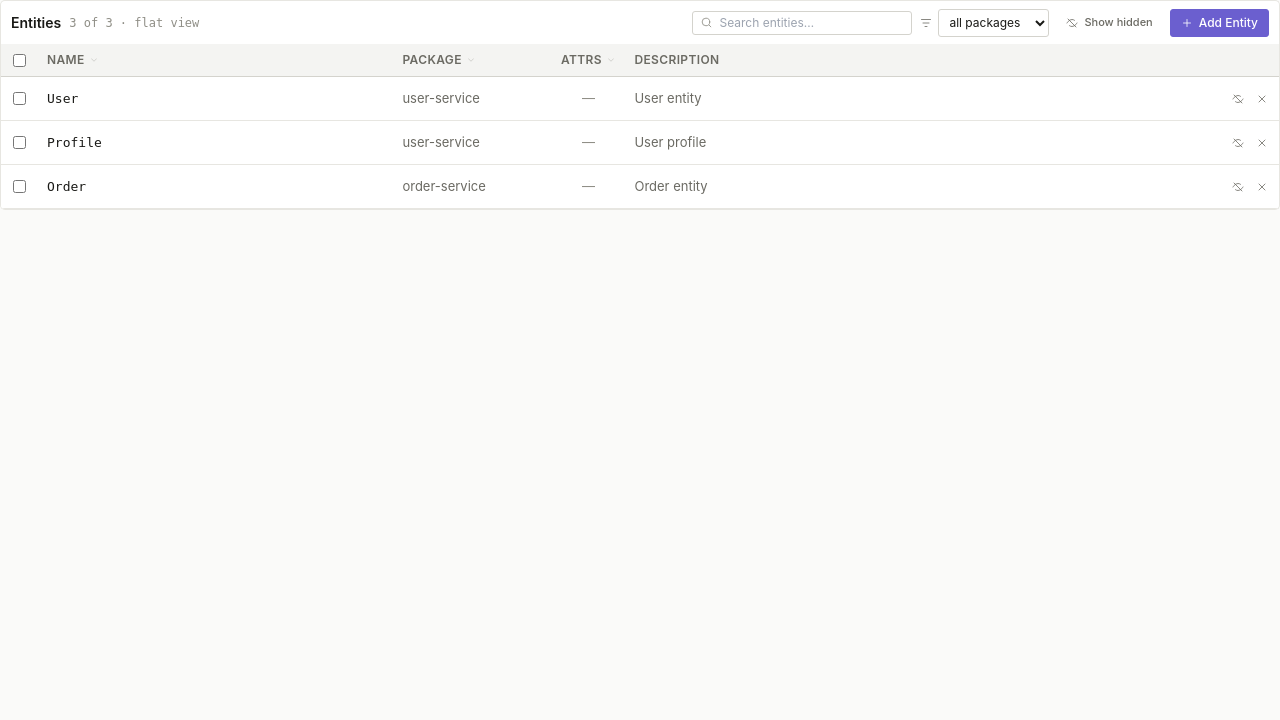
Test case: EntityFlatTable › supports entity creation via the Add Entity modal
Expected: the text "User" is shown, [47,89,78,108]
Click the button "Add Entity". click: (1219, 22)
box: [1170,8,1269,36]
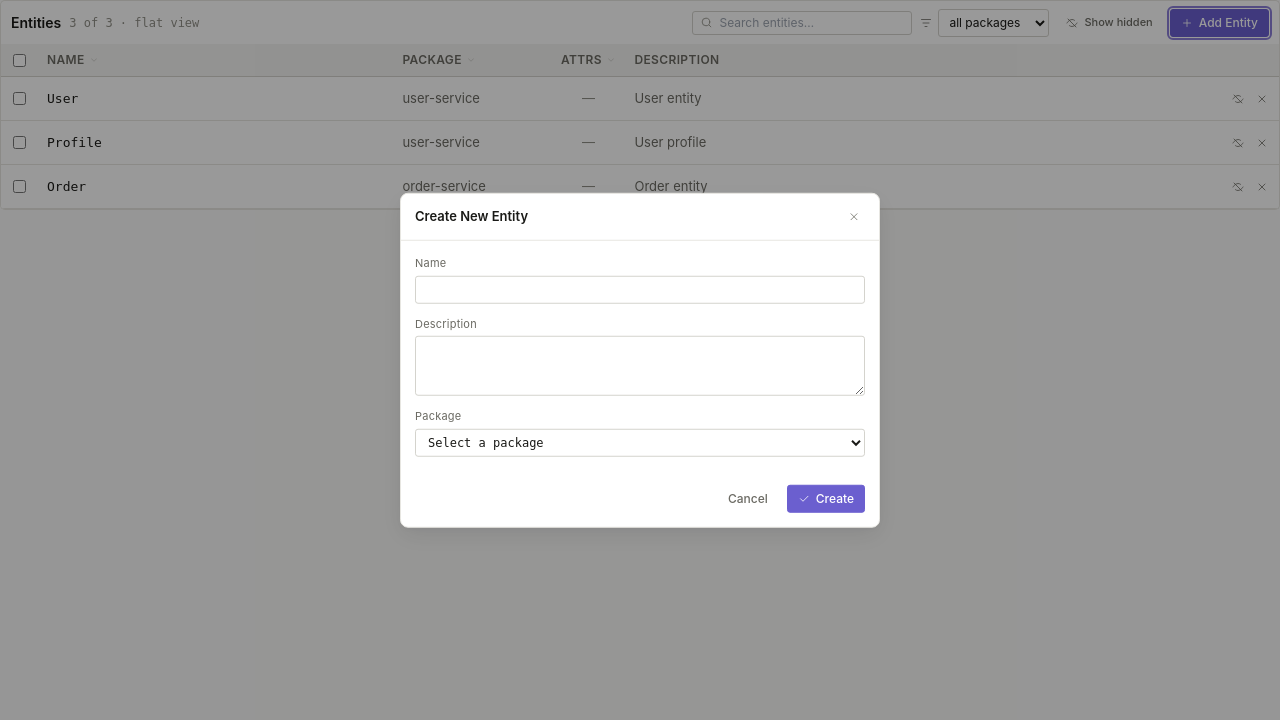
Now the dialog "Create New Entity Name Description Package Cancel Create" is shown, box [400,193,880,527]
Type "NewEntity" into the field labelled "Name". click: (640, 289)
box: [415,275,865,303]
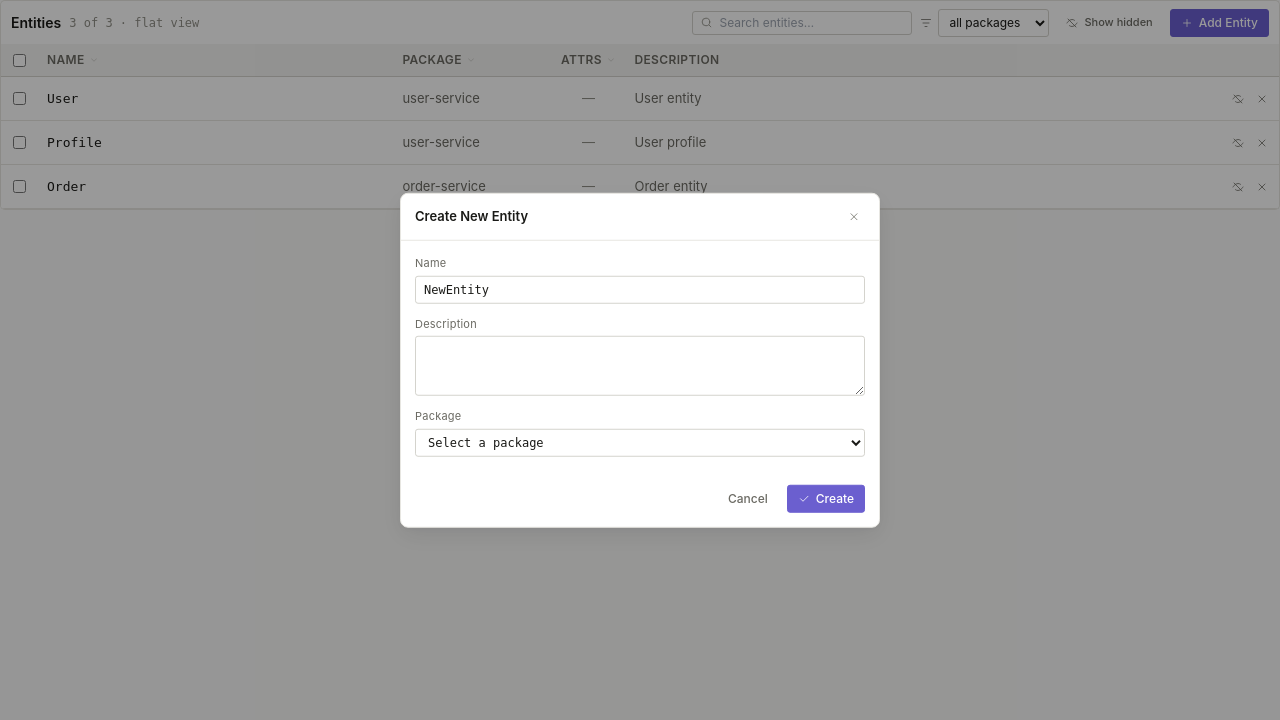
Select "user-service" in the dropdown labelled "Package". click: (640, 442)
box: [415,428,865,456]
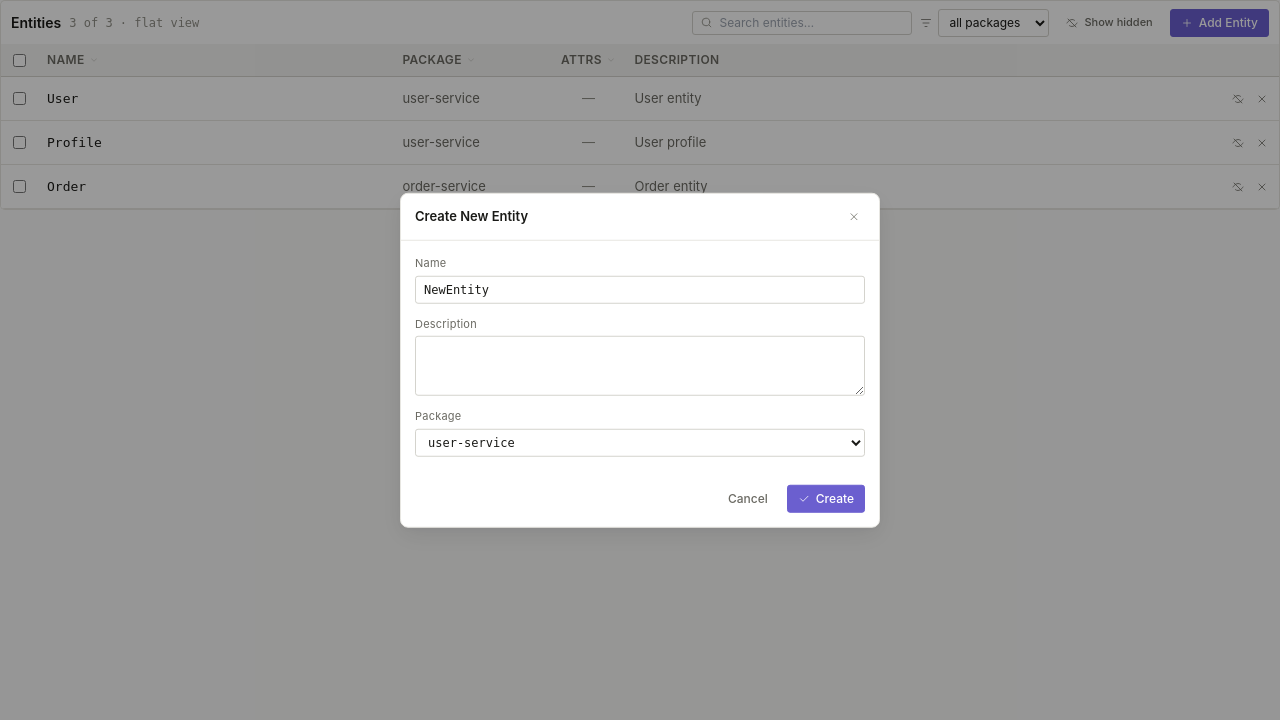
Click the button "Cancel". click: (748, 498)
box: [717,484,779,512]
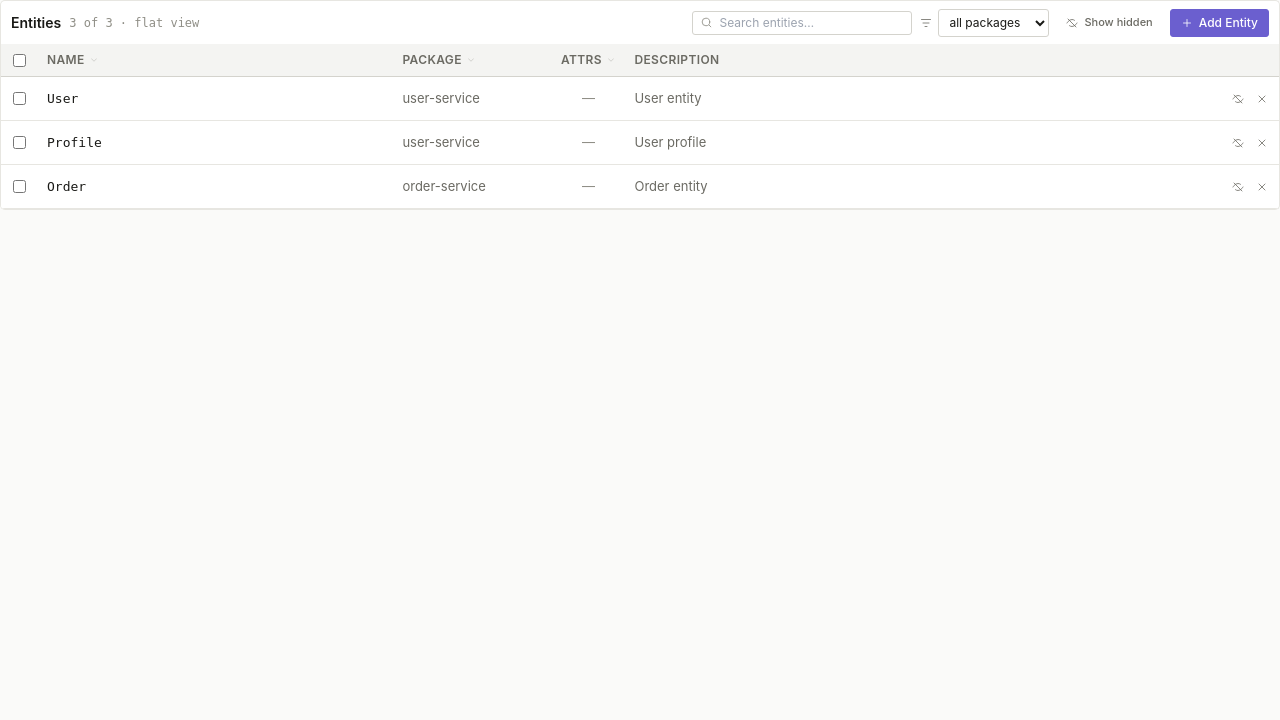
Now the heading "Create New Entity" is gone
